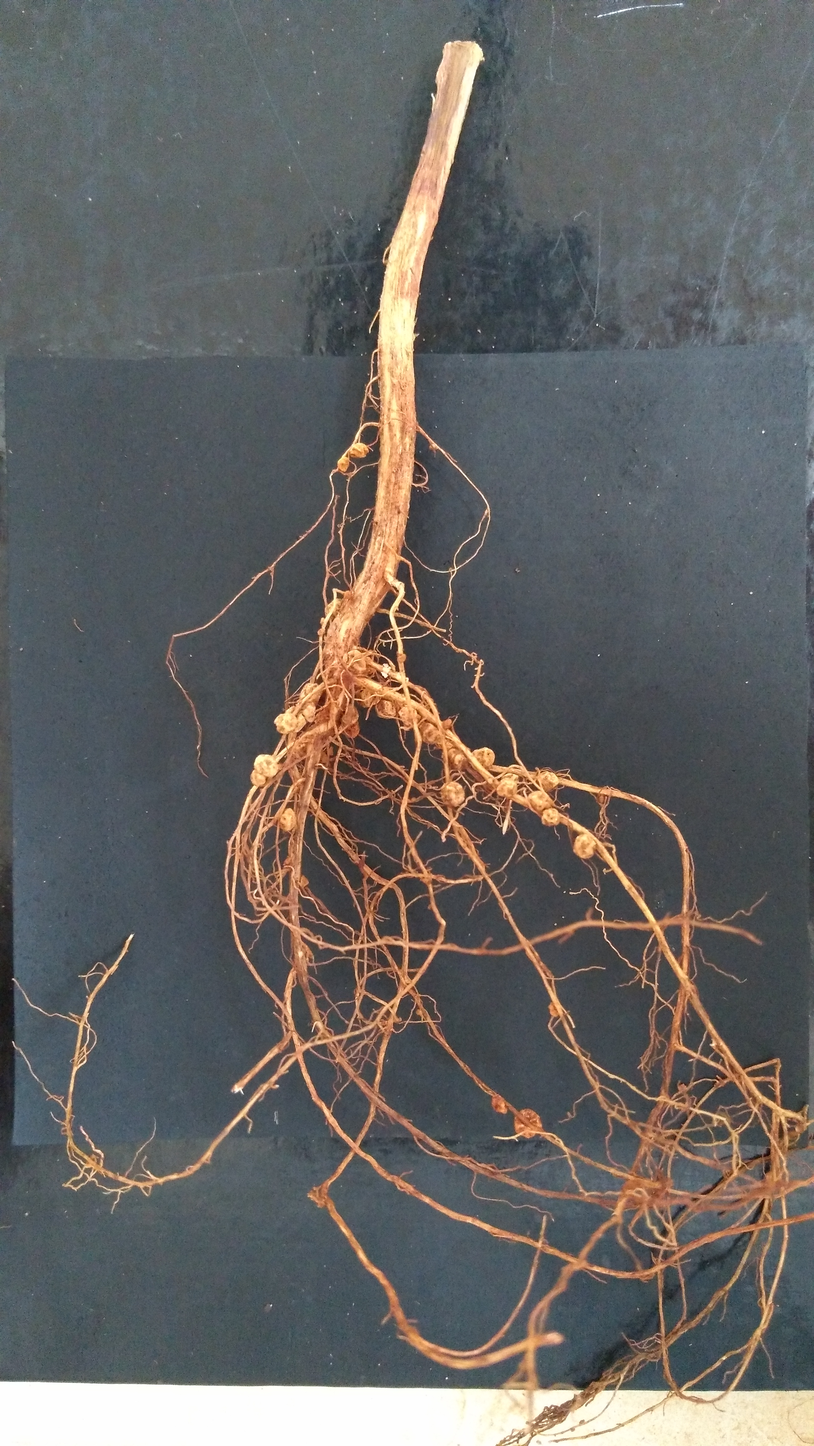nodule: (299, 682, 321, 722), (513, 1108, 542, 1138), (356, 676, 381, 708), (339, 703, 360, 738), (573, 833, 598, 860), (440, 781, 465, 807), (468, 747, 495, 770), (374, 690, 396, 718), (398, 703, 421, 729), (342, 649, 366, 673), (254, 754, 279, 777), (420, 719, 442, 745), (444, 748, 470, 770), (528, 790, 552, 812), (286, 706, 306, 732), (273, 713, 297, 734), (537, 770, 559, 792), (356, 656, 377, 679), (278, 807, 297, 832), (539, 808, 561, 827), (324, 598, 343, 619), (490, 1094, 509, 1114), (435, 732, 456, 750), (497, 778, 517, 796), (348, 443, 369, 459), (250, 769, 266, 786), (547, 999, 562, 1017), (501, 769, 520, 782), (337, 456, 350, 472), (793, 1122, 808, 1134), (299, 874, 309, 887), (396, 652, 407, 663), (319, 753, 329, 764), (441, 719, 452, 728), (343, 590, 352, 599), (317, 627, 326, 635), (283, 857, 292, 865), (429, 443, 438, 450), (320, 617, 327, 626), (328, 746, 334, 756), (415, 1009, 423, 1016), (380, 1020, 387, 1026)
